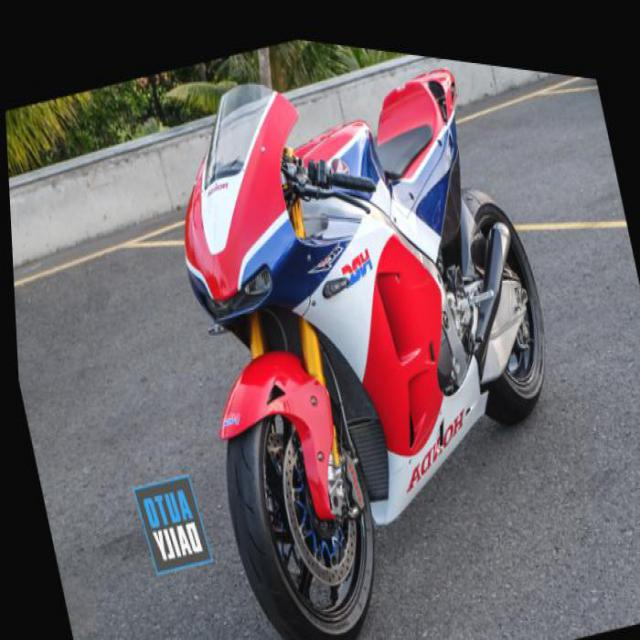HRC RCV 213: (135, 14, 604, 638)
